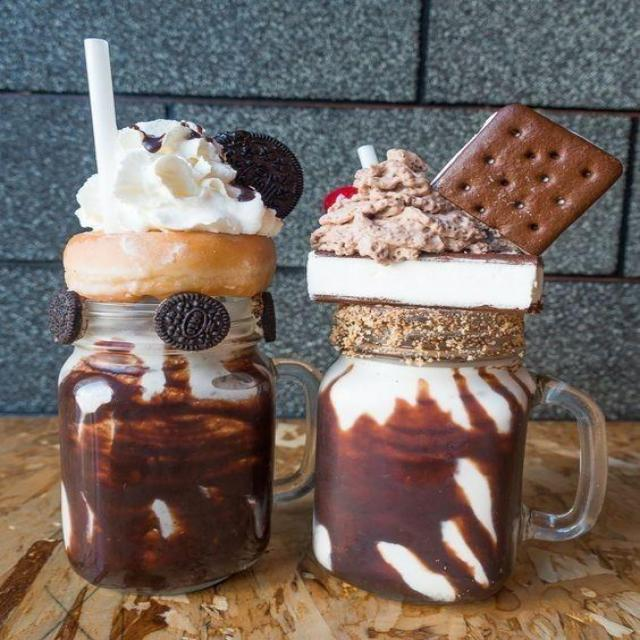glass-mug: (309, 272, 615, 606), (50, 275, 321, 598)
